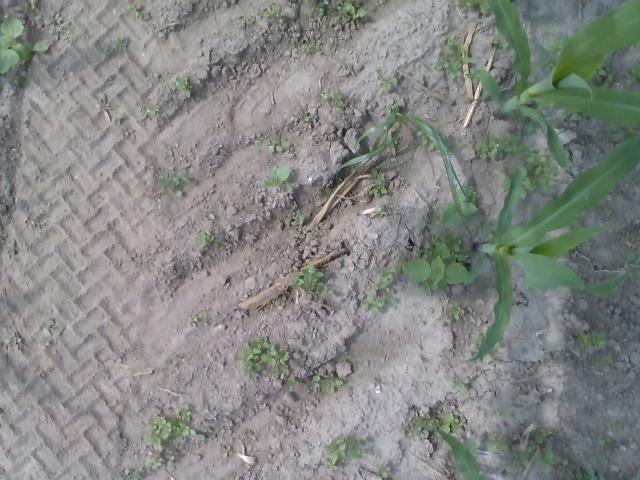Maize: (462, 135, 640, 365), (477, 0, 640, 172), (414, 418, 486, 480)
Weeds: (340, 107, 470, 228), (395, 230, 473, 294), (233, 336, 290, 379), (511, 428, 562, 474), (145, 405, 196, 450), (438, 182, 481, 226), (520, 146, 556, 198), (433, 33, 473, 78), (0, 16, 30, 75), (322, 435, 368, 472), (361, 268, 396, 316), (338, 272, 386, 306), (475, 132, 524, 161), (499, 163, 536, 199), (540, 29, 568, 72), (414, 128, 452, 157), (516, 106, 546, 136), (336, 0, 366, 30), (406, 412, 438, 440), (44, 12, 76, 40), (158, 169, 192, 194), (266, 164, 294, 192), (312, 370, 343, 394), (590, 59, 614, 88), (99, 38, 130, 59), (438, 411, 463, 436), (575, 331, 606, 350), (605, 124, 640, 140), (456, 0, 490, 16), (174, 75, 197, 98), (484, 433, 509, 454), (262, 136, 291, 154), (124, 0, 150, 20), (322, 88, 348, 108), (371, 169, 388, 198), (148, 450, 172, 470), (624, 57, 640, 86), (475, 219, 496, 241), (375, 68, 396, 90), (310, 0, 334, 19), (301, 30, 319, 55), (560, 108, 588, 123), (486, 340, 502, 366), (188, 309, 211, 327), (263, 5, 286, 22), (446, 301, 465, 320), (198, 228, 216, 248), (570, 469, 602, 480), (471, 329, 485, 353), (30, 38, 50, 54), (626, 240, 640, 262), (565, 214, 584, 230), (2, 332, 22, 347), (426, 212, 444, 228), (122, 467, 144, 480), (451, 378, 472, 391), (374, 464, 392, 479), (489, 34, 508, 48), (283, 376, 299, 392), (598, 434, 612, 452), (8, 73, 26, 87), (466, 68, 481, 84), (386, 98, 398, 117), (600, 355, 614, 371), (96, 93, 110, 109), (146, 101, 160, 116), (316, 186, 333, 198), (338, 353, 353, 366), (298, 111, 314, 123), (608, 420, 623, 432), (202, 207, 215, 220), (24, 0, 36, 14), (295, 208, 304, 226), (373, 206, 386, 218), (454, 139, 466, 152), (277, 296, 286, 312), (499, 408, 511, 420), (106, 77, 119, 87), (0, 232, 7, 247), (247, 434, 259, 442), (42, 318, 52, 326), (518, 219, 528, 227), (604, 207, 612, 216), (33, 14, 42, 22), (122, 132, 129, 140), (228, 476, 240, 480), (177, 356, 183, 362), (0, 83, 3, 92)
